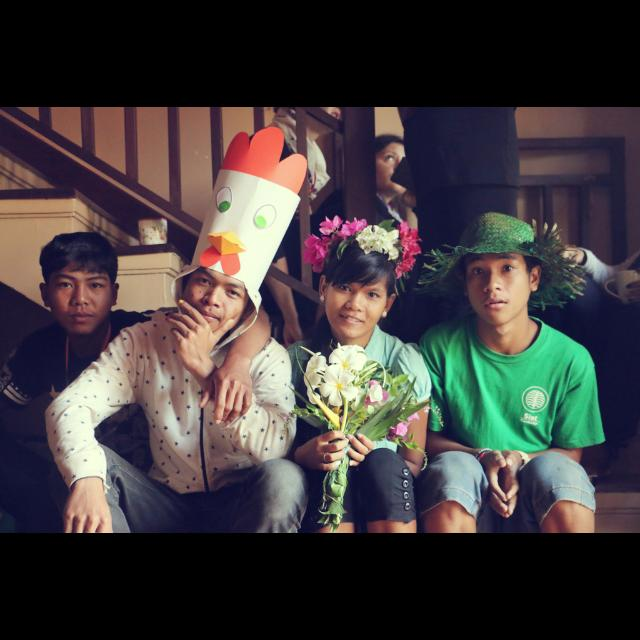Flower: (394, 222, 422, 278), (356, 225, 400, 259), (318, 370, 356, 406), (302, 234, 334, 274), (304, 352, 326, 402), (330, 343, 364, 372), (387, 412, 419, 440), (362, 384, 388, 412), (338, 216, 364, 238), (318, 215, 344, 235)
